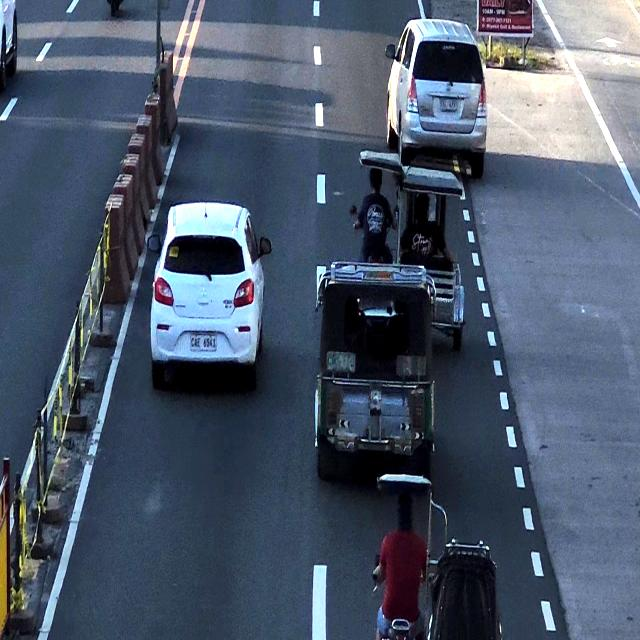Car: (153, 202, 264, 377), (386, 23, 492, 149)
Jeep: (310, 264, 443, 458)
License-Plate: (188, 332, 219, 356), (436, 95, 459, 114)
Tricycle: (368, 469, 504, 640), (355, 149, 476, 263)
